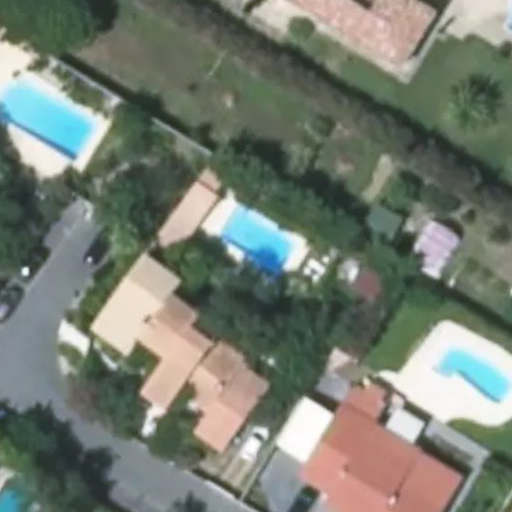pool: (2, 76, 99, 165), (220, 205, 294, 274), (435, 344, 509, 403)
